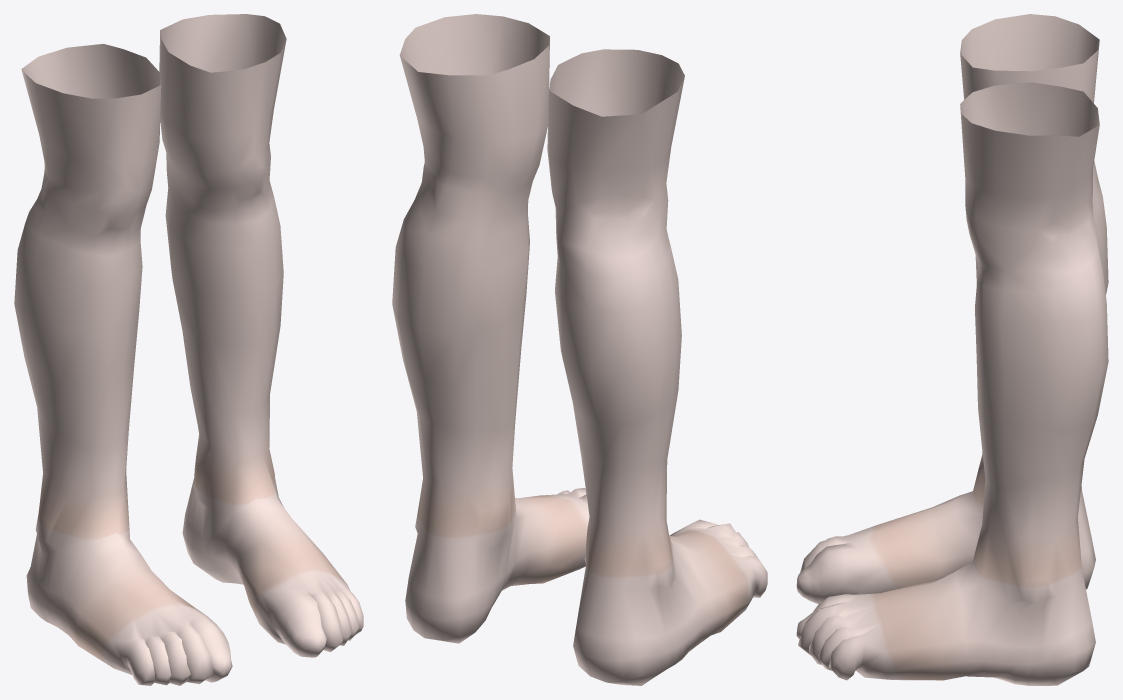
The model's file is Over-Knee.fbx.
3 views of the same model, side by side, from view 1: azimuth 30°, elevation 25°; view 2: azimuth 150°, elevation 25°; view 3: azimuth 270°, elevation 25° (orthographic). The views are drawn at different scales.
Visible parts, largest first — view 1: カスタム少女_mesh; view 2: カスタム少女_mesh; view 3: カスタム少女_mesh.
Boxes of the visible parts, x1,y1,x2,y2 form: カスタム少女_mesh: (14, 14, 363, 685); カスタム少女_mesh: (392, 14, 767, 685); カスタム少女_mesh: (796, 14, 1108, 685).
Size of the model in its own units: 25 by 52.33 by 26.27.
1 material, 1 textured.
